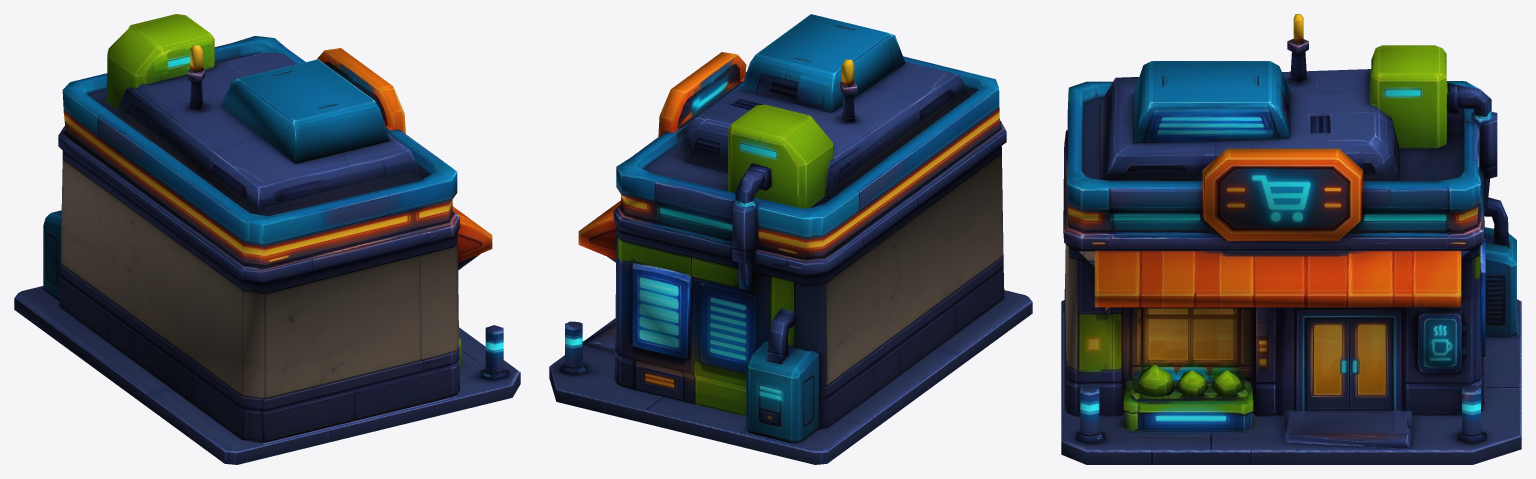
Rendered from building_market_02.glb.
The picture shows the model from 3 angles, left to right: view 1: azimuth 30°, elevation 25°; view 2: azimuth 150°, elevation 25°; view 3: azimuth 270°, elevation 25°; orthographic projection. The views are drawn at different scales.
Visible parts, largest first — view 1: tripo_node_936e7b63-31d9-47d0-a5ee-b0d917aaf5fc; view 2: tripo_node_936e7b63-31d9-47d0-a5ee-b0d917aaf5fc; view 3: tripo_node_936e7b63-31d9-47d0-a5ee-b0d917aaf5fc.
Part boxes in pixels (<box>): tripo_node_936e7b63-31d9-47d0-a5ee-b0d917aaf5fc: <box>14,14,520,464</box>; tripo_node_936e7b63-31d9-47d0-a5ee-b0d917aaf5fc: <box>549,14,1032,464</box>; tripo_node_936e7b63-31d9-47d0-a5ee-b0d917aaf5fc: <box>1061,14,1521,464</box>.
Size of the model in its own units: 0.7988 by 0.8027 by 0.998.
Materials: 1 (1 with a texture image).
